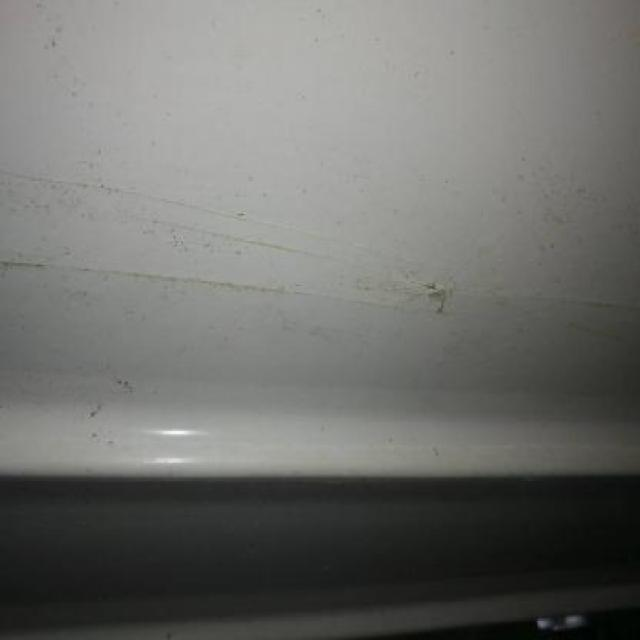crack: (0, 167, 388, 259), (0, 257, 384, 308), (121, 215, 376, 273), (402, 257, 458, 318)
